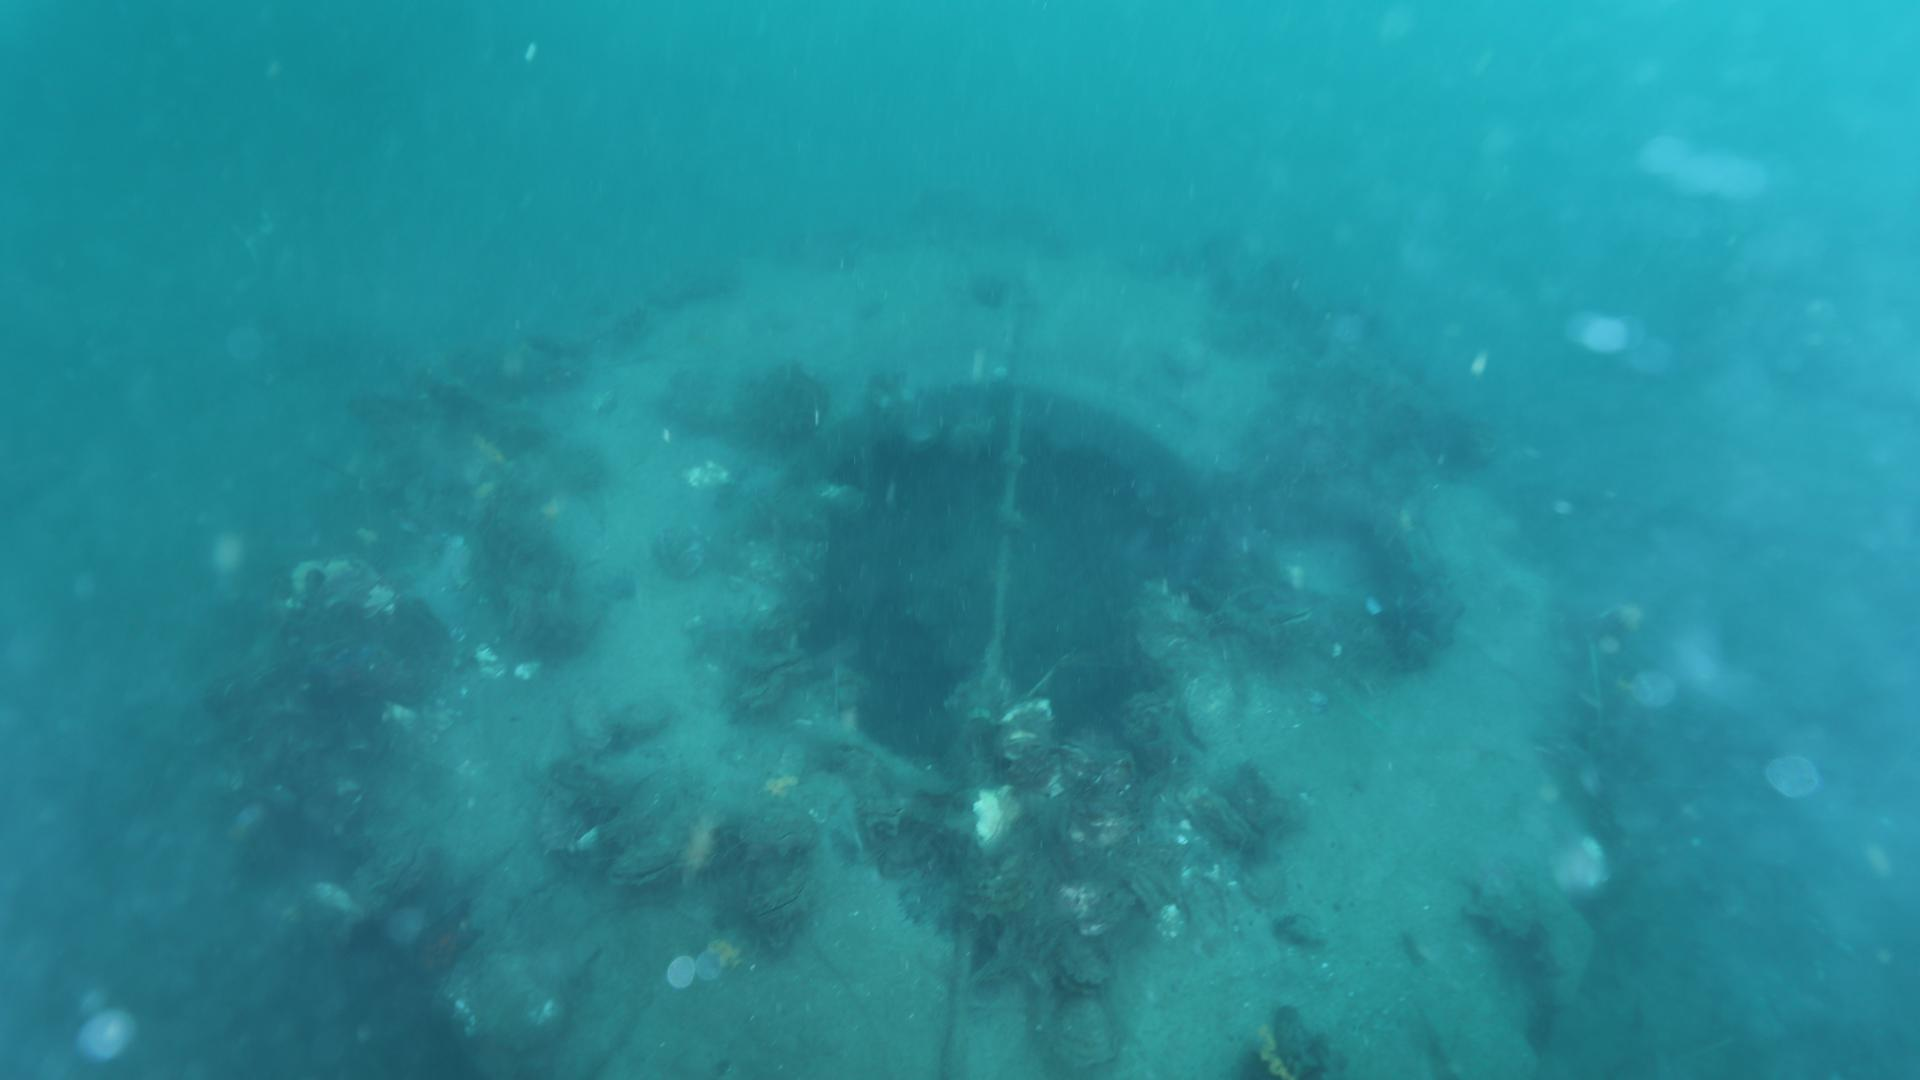tire: (345, 244, 1609, 1080)
